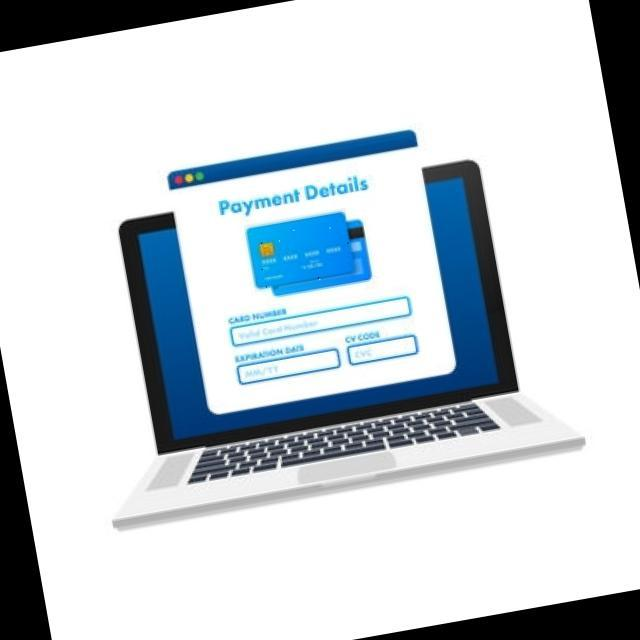payment_card: (241, 211, 375, 288)
